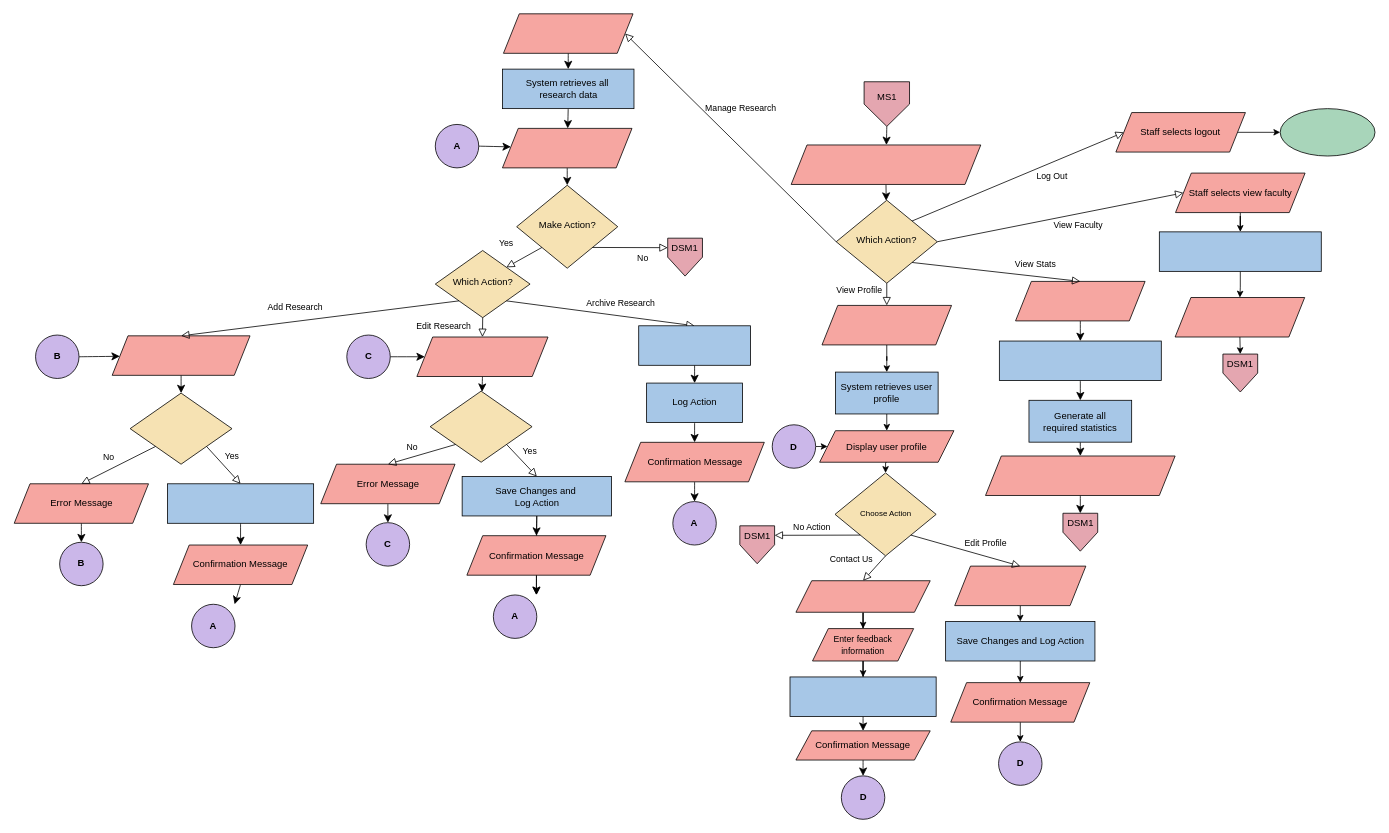
Image size: 1389x833. Some labels were removed from this diagram. Here are the shapes that lost their labels. From the top down, the box of each, then its label:
(503, 13, 633, 53): Staff selects manage research
(502, 128, 632, 168): Display all research
(1279, 108, 1375, 156): End
(790, 144, 981, 184): Staff selects action from Sidebar
(1159, 231, 1321, 271): System retrieves all faculty data
(1015, 281, 1145, 321): Staff selects view stats
(1174, 297, 1305, 337): Display faculty list
(638, 325, 750, 365): Archive Research Record
(821, 305, 952, 345): Staff selects View Profile
(111, 335, 250, 375): Enter research metadata and upload files
(416, 336, 548, 377): Edit allowable fields in research
(999, 340, 1161, 381): System retrieves all stats data
(129, 392, 232, 464): Valid Metadata & Files?
(429, 390, 532, 462): Valid Edits ?
(985, 455, 1175, 495): Display all stats
(167, 483, 314, 523): Save New Research and Log Action
(795, 580, 930, 612): Staff selects Contact Us
(954, 565, 1086, 606): Staff selects Edit Profile
(789, 676, 936, 716): Save and store in Admin Feedback page
